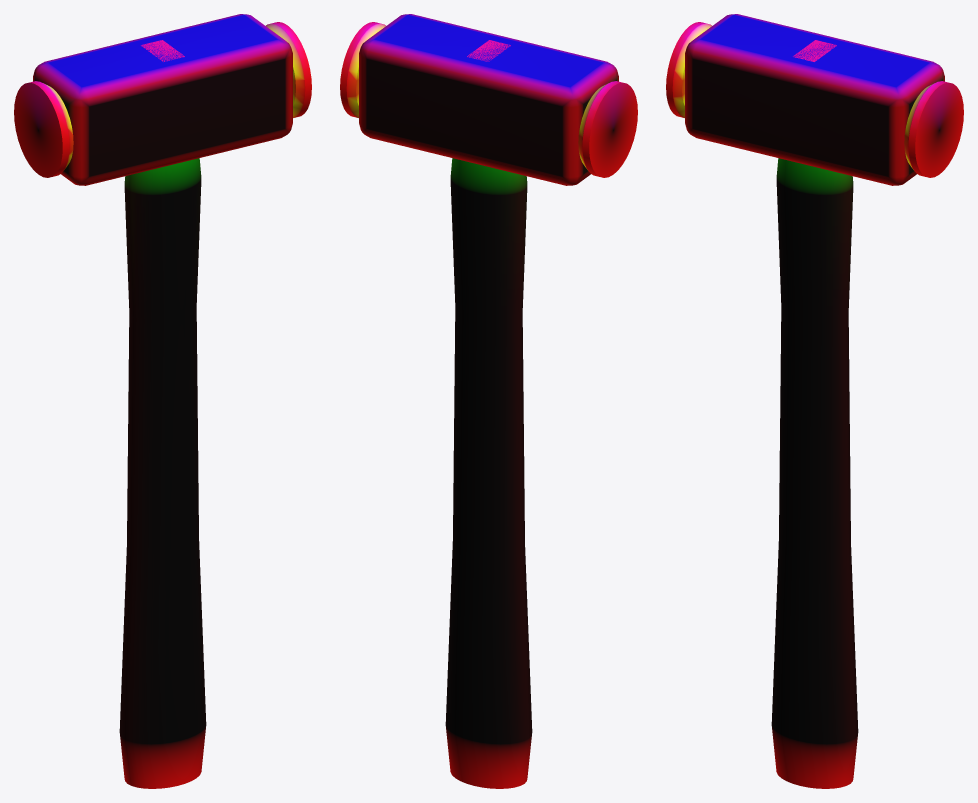
The model's file is prop_lump_hammer.fbx.
3 views of the same model, side by side, from view 1: azimuth 30°, elevation 25°; view 2: azimuth 150°, elevation 25°; view 3: azimuth 330°, elevation 25° (orthographic).
Parts seen in each view (by area): view 1: prop_lump_hammer; view 2: prop_lump_hammer; view 3: prop_lump_hammer.
Boxes of the visible parts, x1,y1,x2,y2 form: prop_lump_hammer: (14,14,311,788); prop_lump_hammer: (340,14,637,788); prop_lump_hammer: (666,14,963,788).
Bounding box in the file's own units: 0.112 × 0.311 × 0.038.
